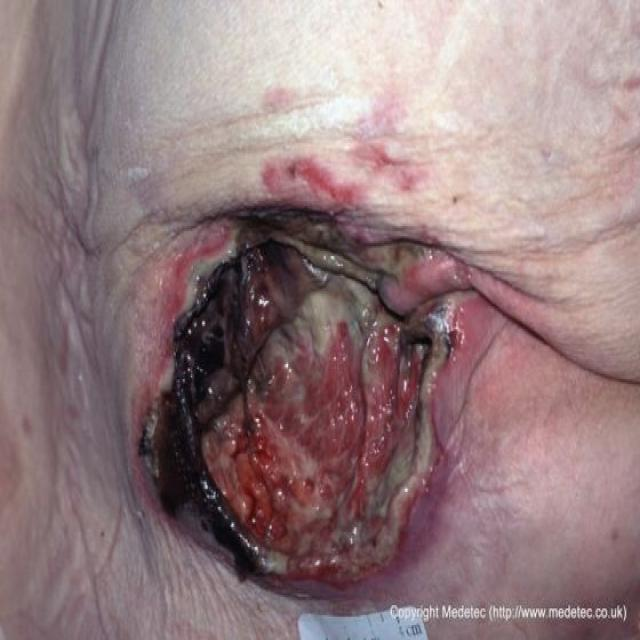stage-4: (141, 222, 478, 581)
